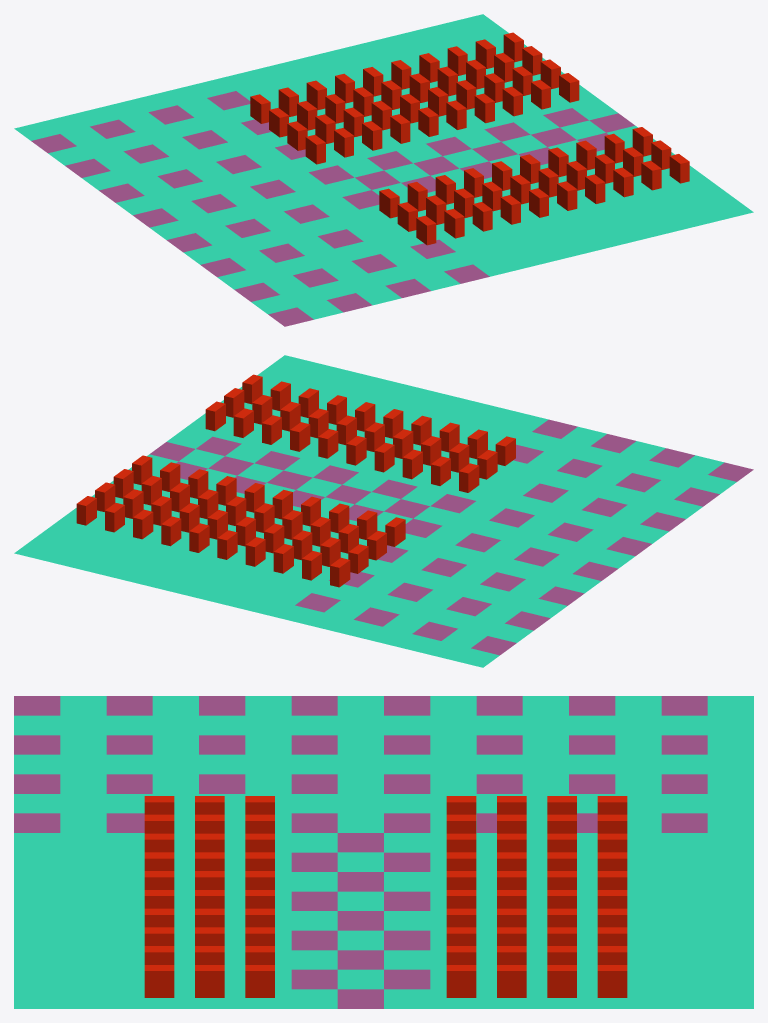
The model's file is world2.glb.
3 views of the same model, one above another, from view 1: azimuth 30°, elevation 25°; view 2: azimuth 150°, elevation 25°; view 3: azimuth 270°, elevation 25° (orthographic). The views are drawn at different scales.
Visible parts, largest first — view 1: Plane, Cube; view 2: Plane, Cube; view 3: Plane, Cube.
Boxes of the visible parts, x1,y1,x2,y2 form: Plane: (14,14,753,326); Cube: (250,32,689,245); Plane: (14,355,753,667); Cube: (76,374,515,587); Plane: (14,696,753,1008); Cube: (144,796,627,997).
Size of the model in its own units: 50 by 2 by 50.
